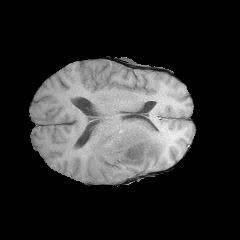glioma: (60, 120, 173, 183)
